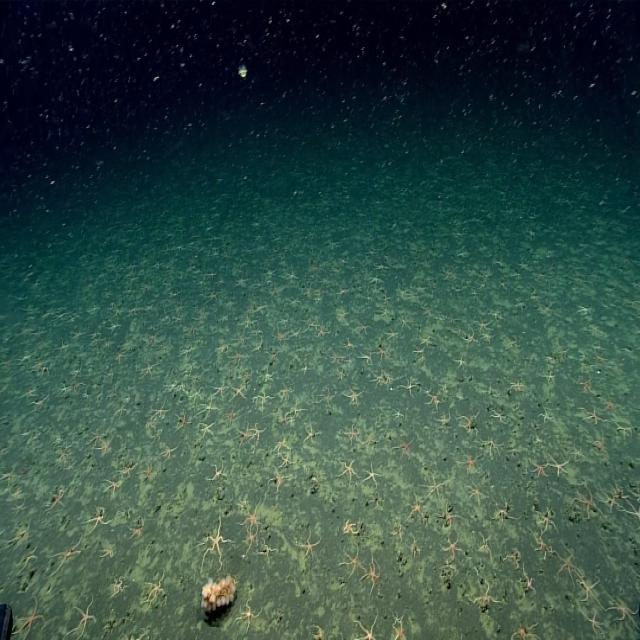brittle-stars: (193, 500, 240, 570), (63, 569, 103, 640), (46, 523, 89, 576), (463, 567, 511, 607), (551, 540, 591, 588), (230, 586, 271, 631), (10, 592, 47, 640), (143, 558, 176, 611), (606, 582, 640, 632), (419, 464, 457, 507), (504, 603, 548, 640), (572, 478, 610, 520), (362, 546, 392, 596), (297, 516, 331, 557), (392, 420, 424, 463), (438, 528, 475, 565), (261, 458, 299, 494), (340, 536, 370, 581), (239, 490, 271, 532), (490, 489, 524, 528), (575, 568, 610, 605), (603, 480, 640, 514), (83, 498, 116, 536), (435, 495, 470, 530), (1, 517, 35, 553), (349, 602, 381, 640), (15, 539, 48, 575), (577, 399, 614, 431), (124, 506, 154, 545), (358, 451, 388, 488), (43, 475, 70, 516), (195, 408, 224, 444), (587, 427, 617, 460), (242, 519, 268, 557), (454, 402, 483, 436), (338, 447, 363, 486), (406, 488, 431, 527), (543, 447, 573, 479), (578, 608, 608, 640), (118, 613, 153, 640), (338, 510, 373, 537), (474, 526, 501, 561), (208, 451, 234, 486), (456, 448, 486, 478), (576, 364, 606, 394), (534, 500, 562, 532), (258, 528, 284, 562), (159, 432, 184, 467), (108, 562, 132, 598), (98, 471, 129, 498), (388, 510, 412, 544), (196, 391, 226, 418), (342, 417, 366, 449), (138, 353, 164, 382), (273, 377, 302, 403), (532, 527, 558, 556), (343, 380, 368, 410), (602, 389, 633, 413), (424, 383, 451, 410), (301, 417, 327, 445), (318, 381, 344, 409), (234, 416, 256, 449), (392, 611, 417, 640), (273, 319, 298, 348), (529, 449, 553, 479), (467, 476, 494, 502), (433, 402, 457, 431), (399, 302, 423, 331), (250, 410, 271, 443), (250, 385, 280, 408), (140, 450, 162, 481), (520, 561, 540, 595), (86, 418, 110, 446), (480, 432, 509, 455), (471, 309, 501, 331), (356, 339, 380, 366), (505, 541, 532, 565), (313, 608, 333, 640), (438, 620, 470, 640), (334, 294, 354, 326), (362, 420, 383, 450), (329, 340, 350, 370), (400, 371, 425, 396), (355, 312, 379, 338), (2, 460, 24, 488), (464, 321, 486, 349), (252, 290, 274, 318), (52, 330, 74, 358), (52, 443, 76, 468), (29, 388, 54, 412), (488, 402, 513, 426), (148, 398, 175, 420), (175, 403, 197, 430), (96, 433, 121, 456), (504, 327, 528, 350), (223, 400, 243, 427), (272, 429, 292, 456), (122, 450, 141, 478), (177, 336, 200, 359), (114, 344, 136, 368), (240, 308, 261, 333), (228, 379, 254, 399), (278, 443, 298, 469), (389, 398, 412, 420), (369, 486, 390, 510), (293, 394, 315, 416), (97, 539, 120, 560), (508, 372, 529, 395), (536, 400, 556, 424), (542, 362, 562, 386), (367, 268, 391, 288), (262, 357, 281, 382), (573, 434, 591, 460), (451, 346, 471, 369), (39, 354, 58, 378), (375, 341, 396, 362), (417, 329, 438, 350), (70, 321, 92, 341), (384, 321, 404, 343), (229, 342, 248, 365), (389, 600, 408, 622), (370, 364, 386, 390), (13, 493, 31, 516), (481, 324, 499, 347), (8, 480, 28, 500), (213, 376, 233, 396), (70, 356, 88, 378), (334, 361, 352, 382), (144, 414, 164, 432), (70, 373, 85, 397), (305, 313, 323, 333), (413, 348, 429, 370), (276, 407, 293, 427), (0, 440, 12, 468), (384, 365, 398, 389), (620, 414, 634, 438), (192, 379, 208, 400), (190, 365, 212, 380), (531, 428, 549, 446), (151, 423, 165, 446), (345, 334, 364, 350), (58, 377, 73, 396), (316, 319, 330, 339), (242, 361, 255, 382), (377, 304, 392, 322), (178, 372, 190, 392), (53, 429, 66, 446)
